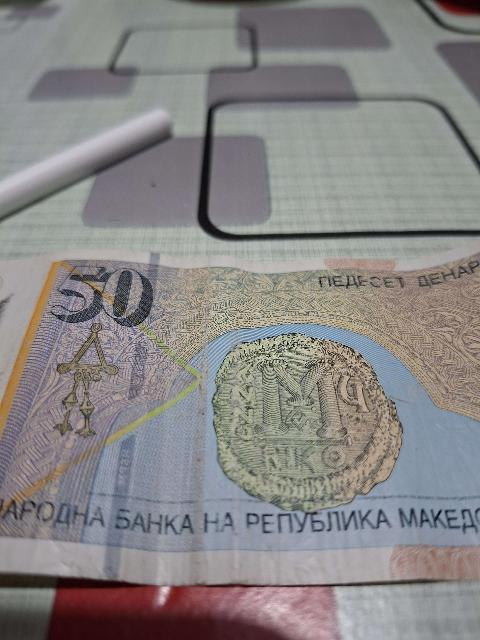50_note: (0, 240, 479, 587)
